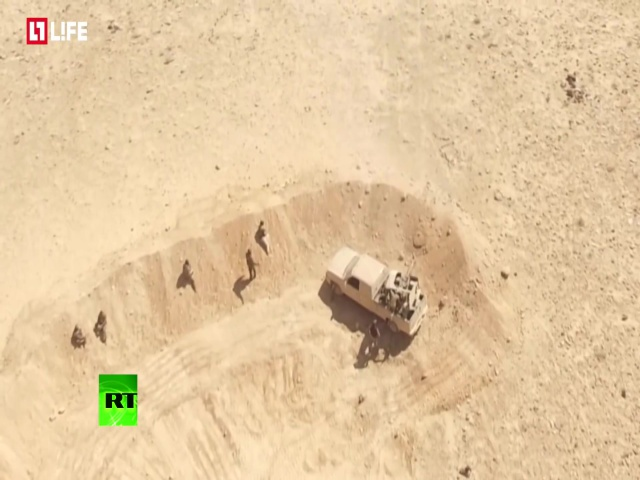person: (254, 218, 273, 254), (241, 245, 258, 284), (180, 257, 197, 295), (68, 323, 88, 355), (95, 308, 110, 345), (368, 318, 381, 351)
vehicle: (323, 245, 427, 335)
